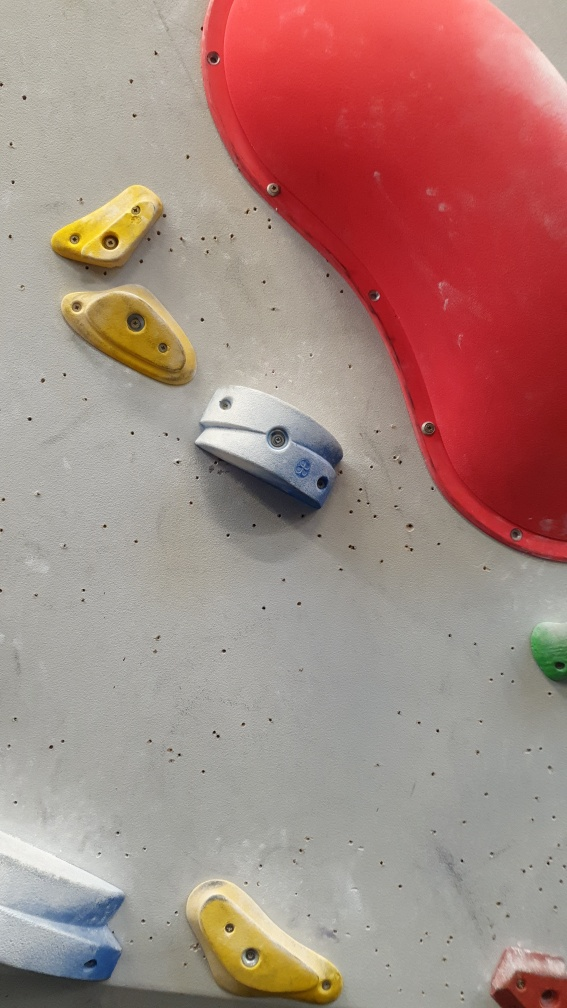Crimp: (196, 889, 326, 1000), (81, 286, 189, 385), (74, 194, 165, 267)
Jug: (526, 617, 567, 694)
Pinch: (1, 829, 129, 990), (195, 385, 345, 509)
